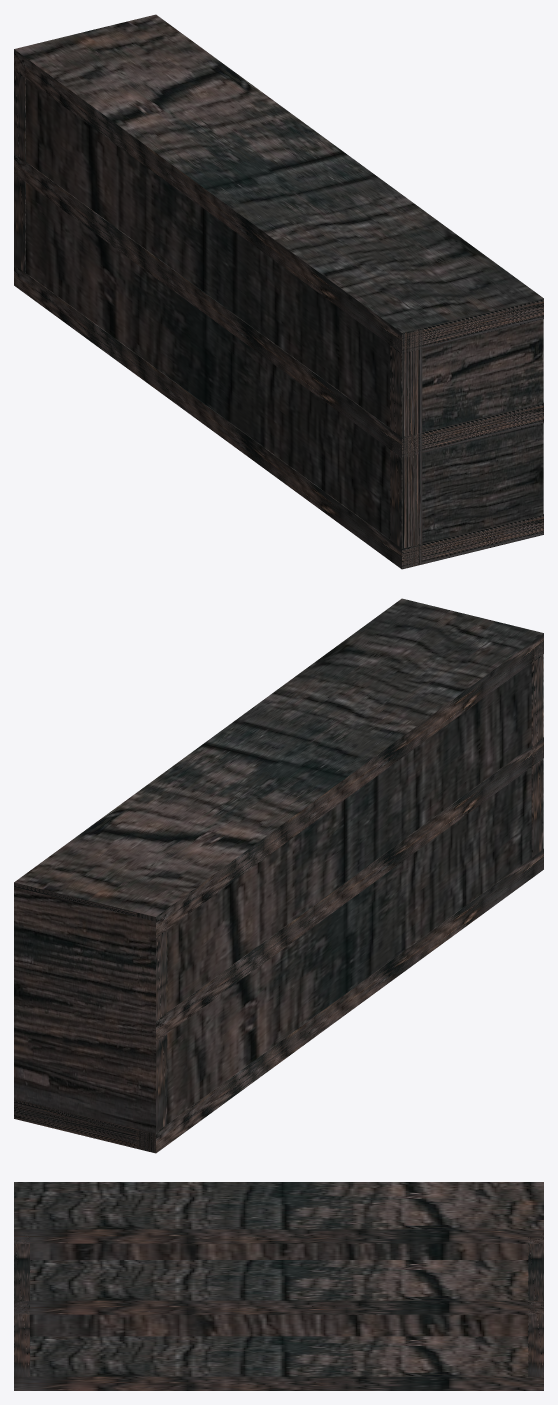
Rendered from BookShelf.glb.
3 renders of one model, top to bottom at view 1: azimuth 30°, elevation 25°; view 2: azimuth 150°, elevation 25°; view 3: azimuth 270°, elevation 25°, orthographic. The views are drawn at different scales.
Parts seen in each view (by area): view 1: Cube, Cube.002, Cube.004, Cube.001, Cube.003, Cube.005; view 2: Cube, Cube.002, Cube.005, Cube.001, Cube.003, Cube.004; view 3: Cube.002, Cube.003, Cube.001, Cube, Cube.004, Cube.005.
Boxes of the visible parts, x1=… form: Cube: x1=26, y1=79, x2=422, y2=568; Cube.002: x1=14, y1=14, x2=543, y2=353; Cube.004: x1=390, y1=319, x2=543, y2=548; Cube.001: x1=14, y1=265, x2=543, y2=569; Cube.003: x1=14, y1=153, x2=543, y2=457; Cube.005: x1=14, y1=54, x2=25, y2=272; Cube: x1=135, y1=663, x2=531, y2=1153; Cube.002: x1=14, y1=598, x2=543, y2=937; Cube.005: x1=14, y1=887, x2=167, y2=1133; Cube.001: x1=14, y1=849, x2=543, y2=1153; Cube.003: x1=156, y1=737, x2=543, y2=1041; Cube.004: x1=531, y1=639, x2=543, y2=857; Cube.002: x1=14, y1=1182, x2=543, y2=1243; Cube.003: x1=14, y1=1260, x2=543, y2=1314; Cube.001: x1=14, y1=1336, x2=543, y2=1390; Cube: x1=14, y1=1243, x2=528, y2=1336; Cube.004: x1=14, y1=1234, x2=29, y2=1377; Cube.005: x1=528, y1=1235, x2=543, y2=1377.
Bounding box in the file's own units: 1.26 × 2 × 5.96.
6 materials, 6 textured.
